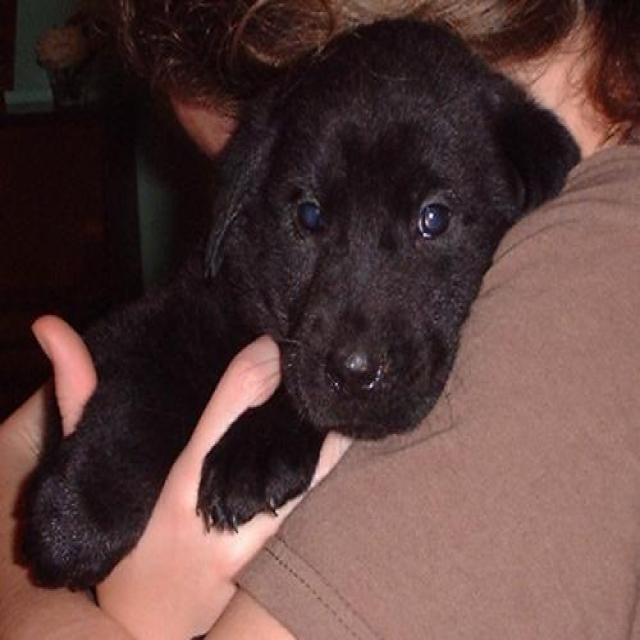dogs: (15, 14, 583, 591)
